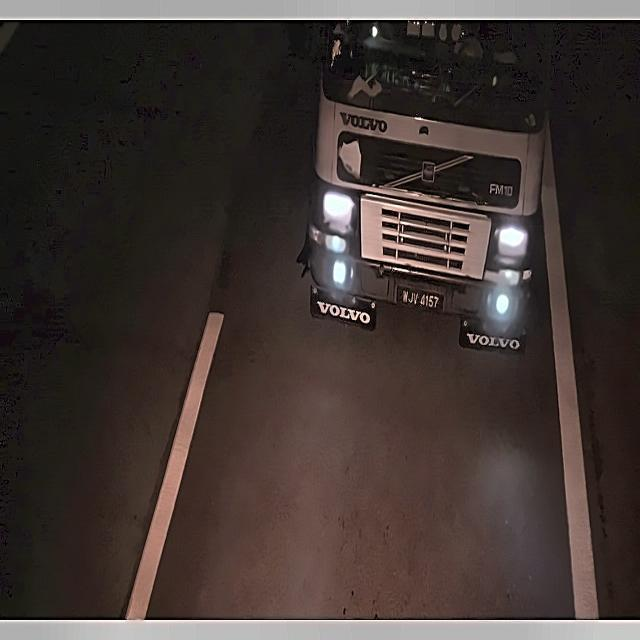car: (398, 283, 444, 320)
